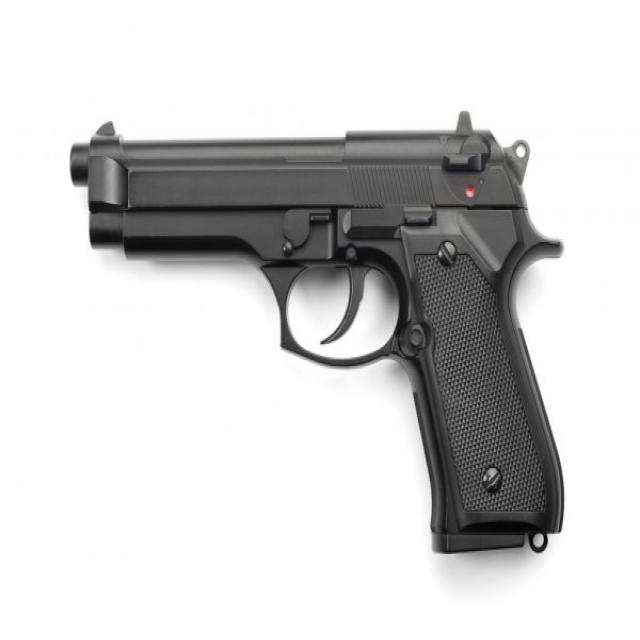pistol: (64, 104, 575, 568)
